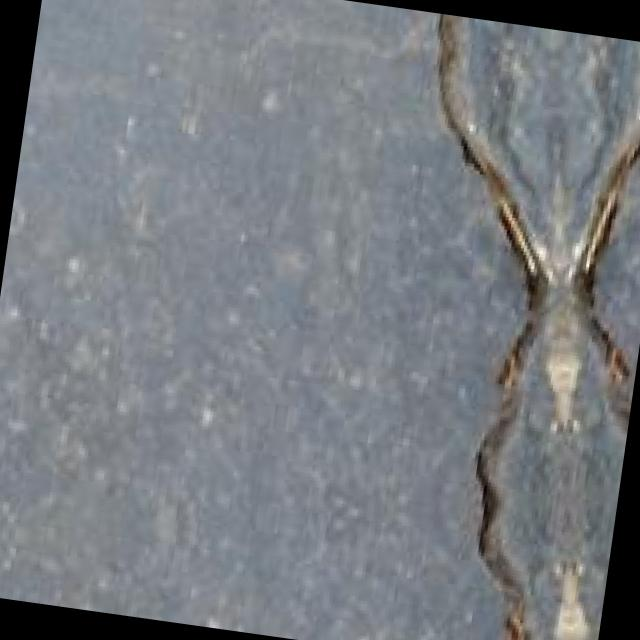crack: (339, 12, 640, 640)
